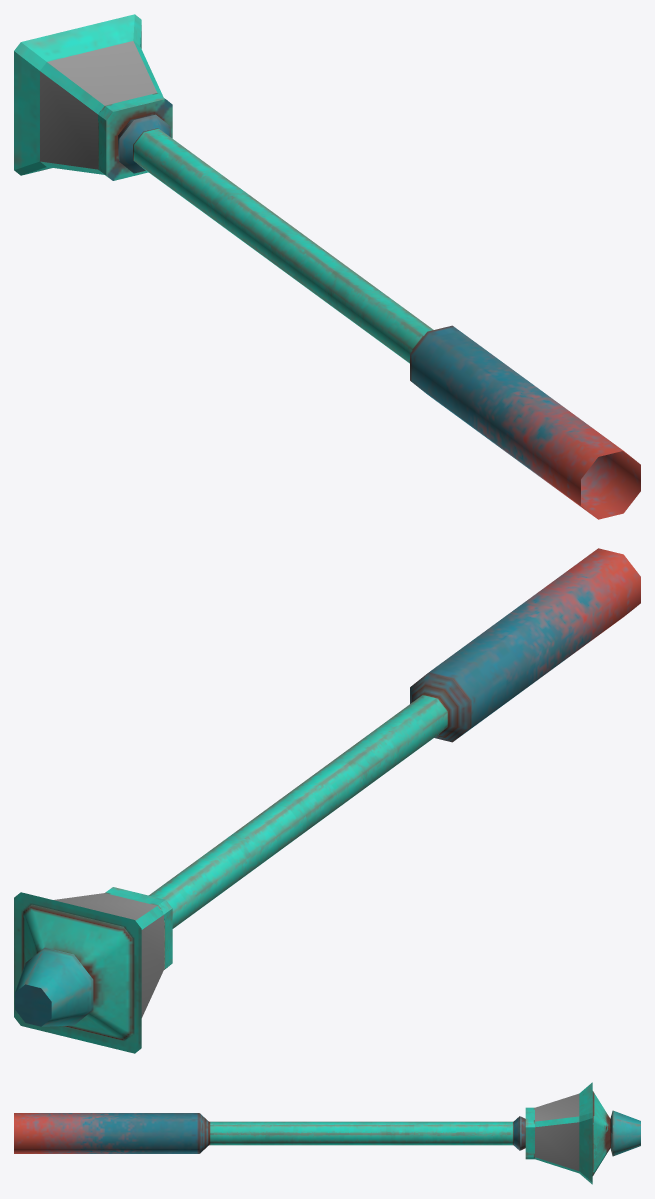
File: Streetlight000.obj
The picture shows the model from 3 angles, top to bottom: view 1: azimuth 30°, elevation 25°; view 2: azimuth 150°, elevation 25°; view 3: azimuth 270°, elevation 25°; orthographic projection. The views are drawn at different scales.
Visible parts, largest first — view 1: polySurface724__StreetlightSand00, Glass1__Glasslight01; view 2: polySurface724__StreetlightSand00, Glass1__Glasslight01; view 3: polySurface724__StreetlightSand00, Glass1__Glasslight01.
Boxes of the visible parts, box(x1,y1,x2,y2) form: polySurface724__StreetlightSand00: box(14, 14, 640, 519); Glass1__Glasslight01: box(40, 41, 157, 169); polySurface724__StreetlightSand00: box(14, 548, 640, 1053); Glass1__Glasslight01: box(54, 893, 163, 1017); polySurface724__StreetlightSand00: box(14, 1082, 640, 1184); Glass1__Glasslight01: box(535, 1093, 579, 1170).
Bounding box in the file's own units: 87.5 × 87.5 × 685.
Materials: 4 (1 with a texture image).
